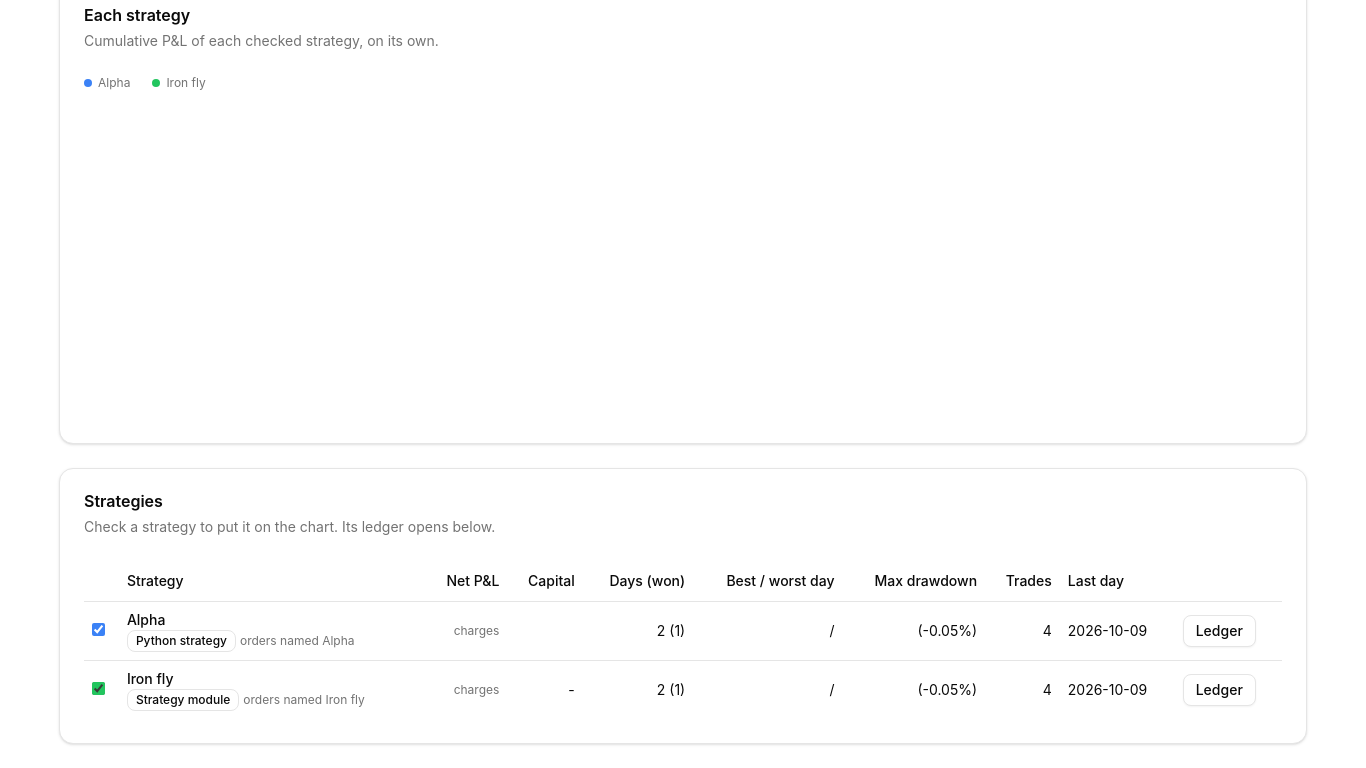
it: StrategyDashboard › opens a strategy's ledger, square-off included
The width and height of the screenshot is (1366, 768).
(page scrolled)
Check: the text "Python strategy" is shown, box x1=127 y1=630 x2=236 y2=652
Click the 1st button "Ledger". click: (1219,630)
box: x1=1183 y1=614 x2=1256 y2=646
(page scrolled)
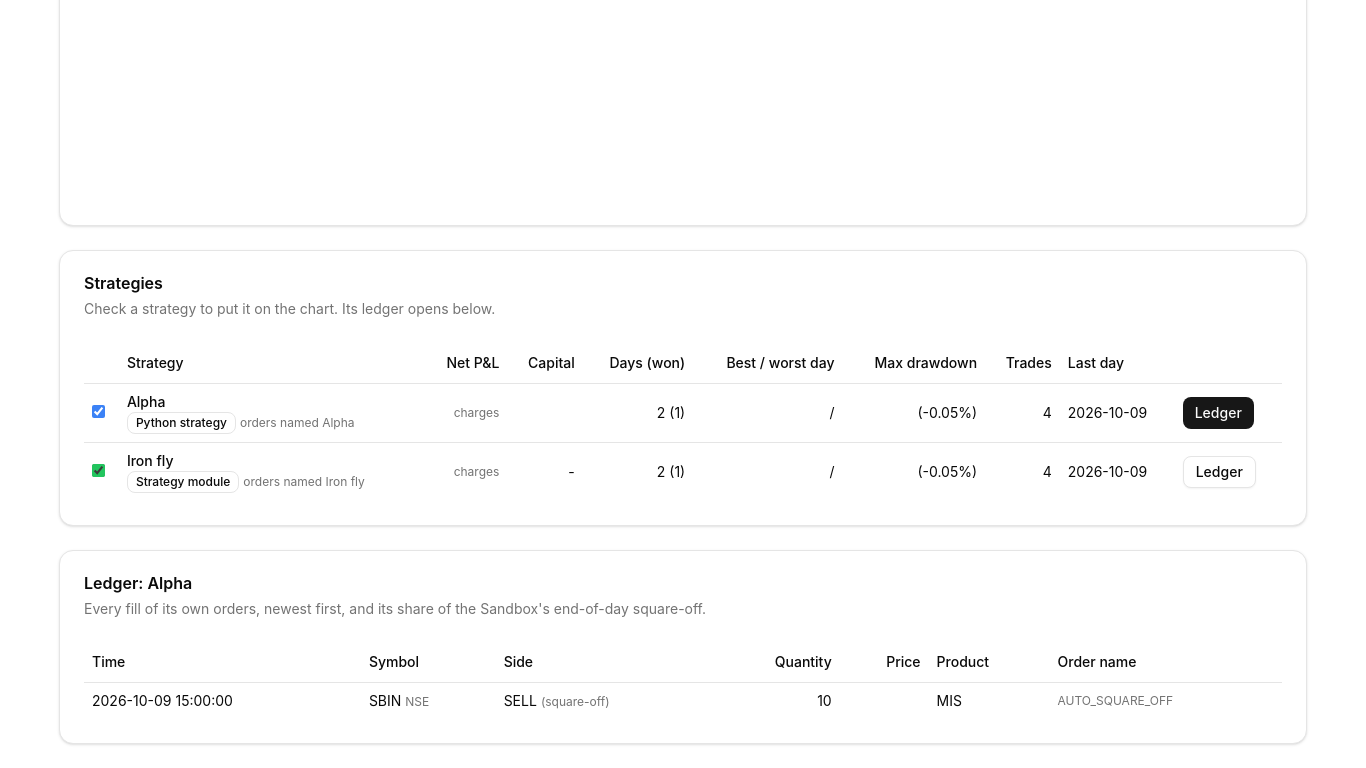
Check: the text "(square-off)" is shown, box x1=541 y1=694 x2=610 y2=709
